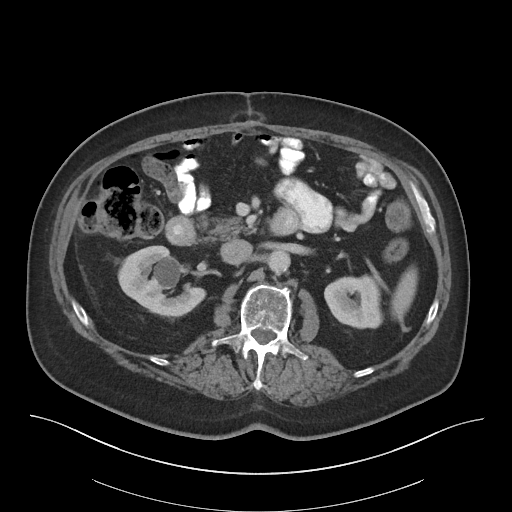Lesion: (150, 255, 182, 291)
